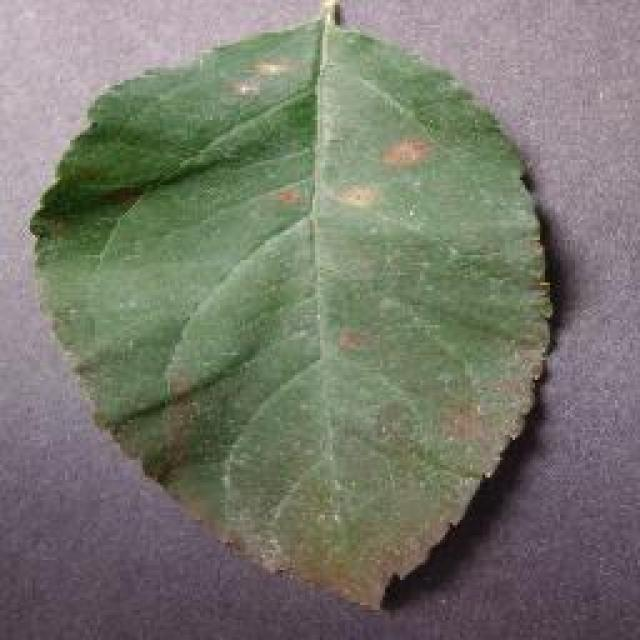apple rust disease: (27, 0, 557, 612)
